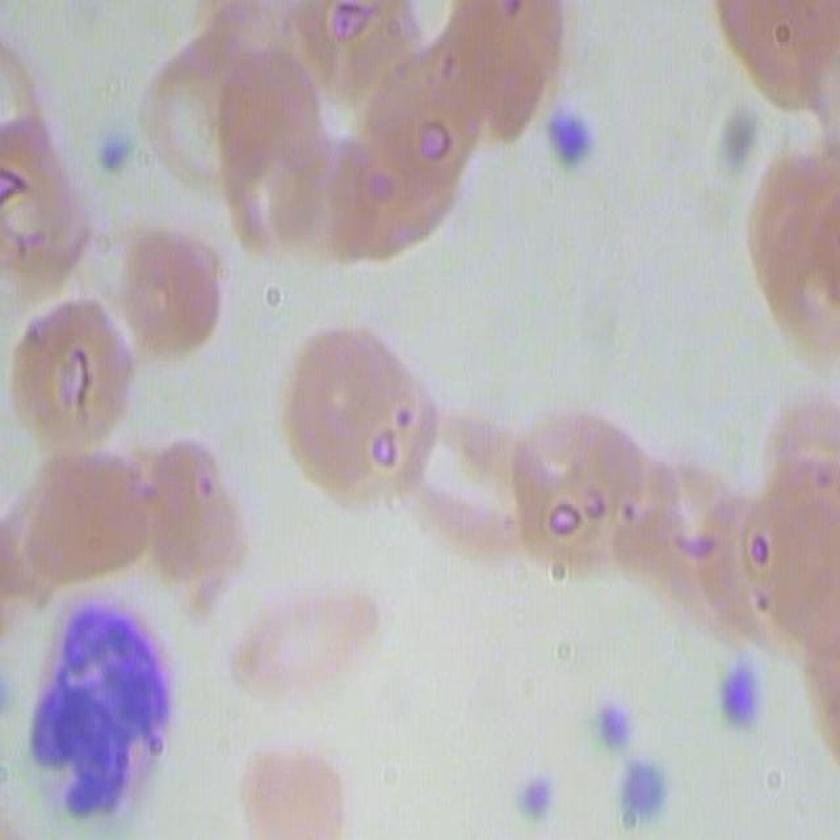neutrophil: (21, 572, 187, 815)
